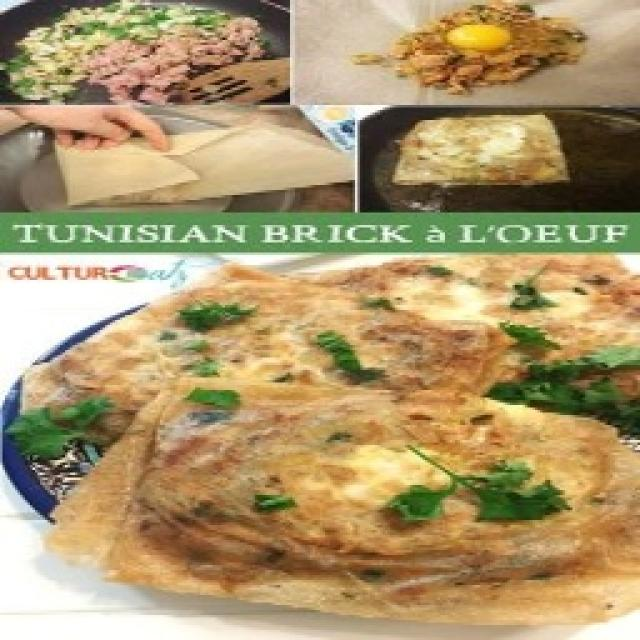Brik: (25, 258, 640, 623)
